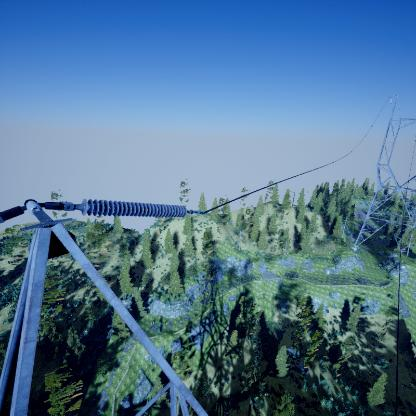insulator: (81, 196, 188, 221)
